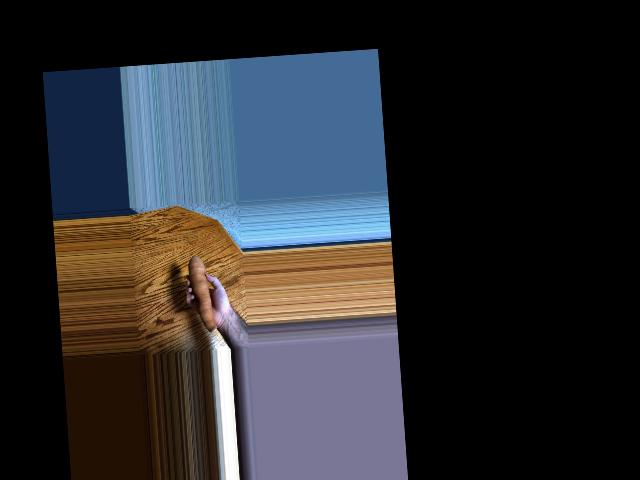sweet_potato: (182, 254, 217, 329)
